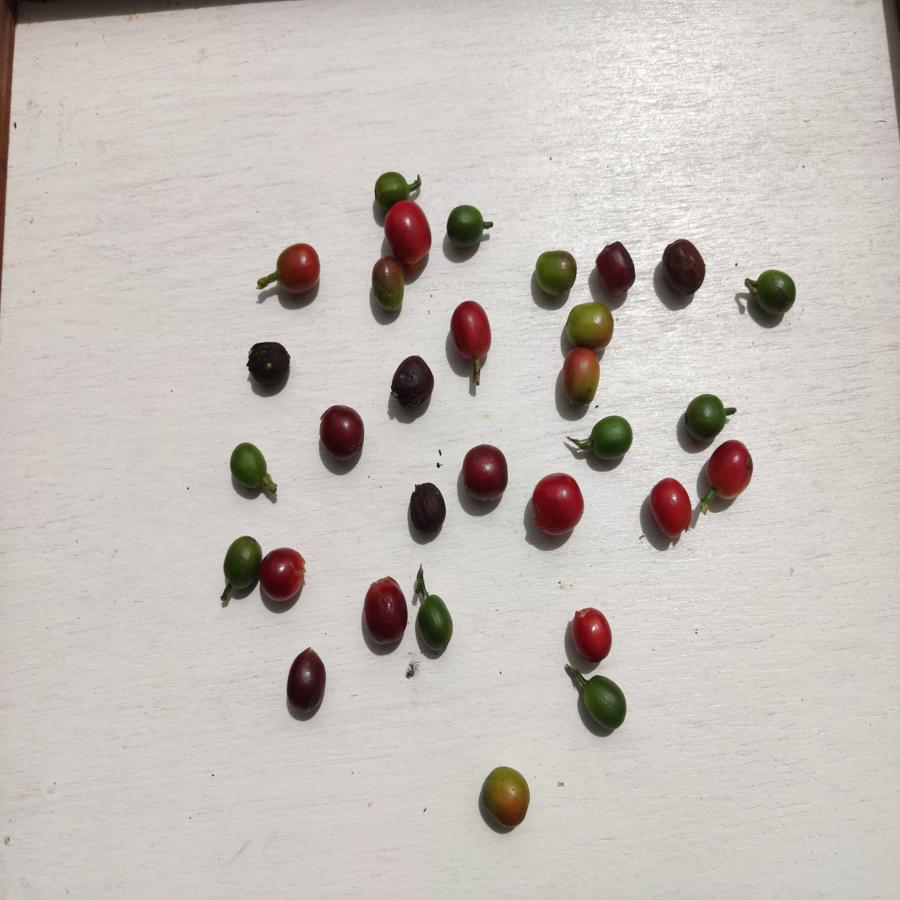Inmaduro: (578, 675, 628, 732), (218, 532, 262, 595), (413, 591, 455, 657), (227, 441, 273, 500), (748, 267, 800, 316), (685, 390, 725, 445), (445, 201, 488, 252), (591, 414, 634, 462), (371, 168, 412, 204)
Maduro: (527, 472, 587, 538), (258, 543, 312, 605), (383, 204, 437, 265), (567, 602, 617, 665), (448, 297, 495, 363), (706, 438, 755, 501), (648, 476, 693, 540), (275, 241, 322, 296)
Pinton: (482, 765, 529, 828), (558, 344, 600, 406), (532, 247, 578, 300), (371, 257, 408, 318), (567, 302, 614, 348)
Sobremaduro: (359, 572, 409, 651), (462, 441, 512, 505), (318, 402, 365, 465), (661, 237, 708, 298), (592, 239, 639, 299), (391, 352, 435, 414), (287, 650, 327, 715), (245, 337, 293, 388), (406, 481, 448, 536)
